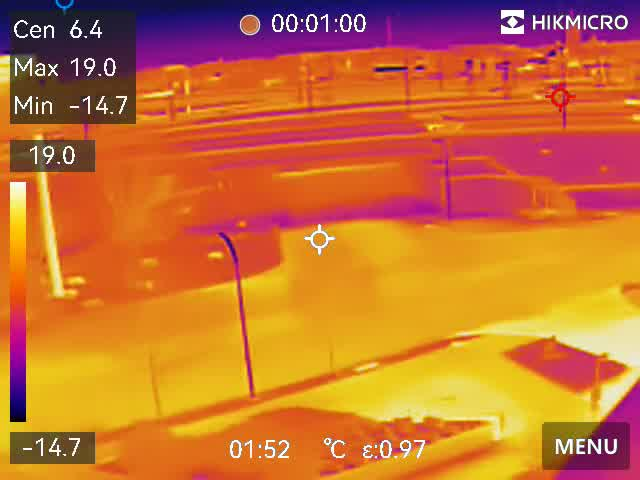vehicle: (417, 116, 470, 132), (528, 88, 556, 101)
